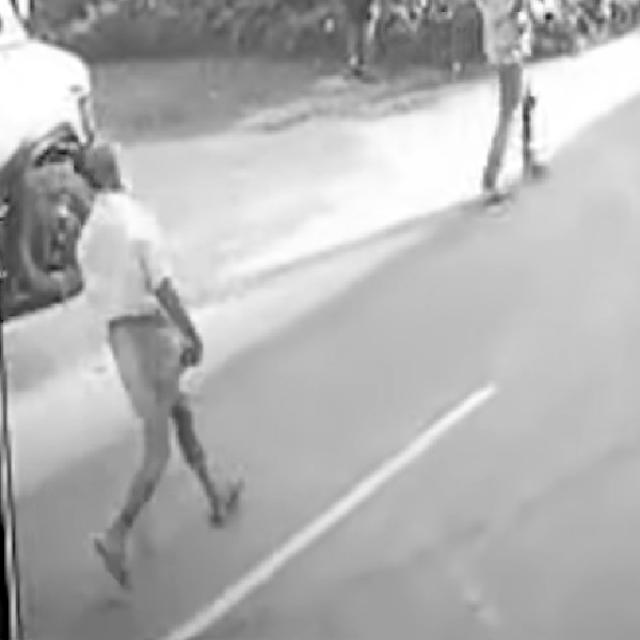Invader: (75, 138, 245, 589), (463, 0, 559, 216), (321, 0, 392, 95)
